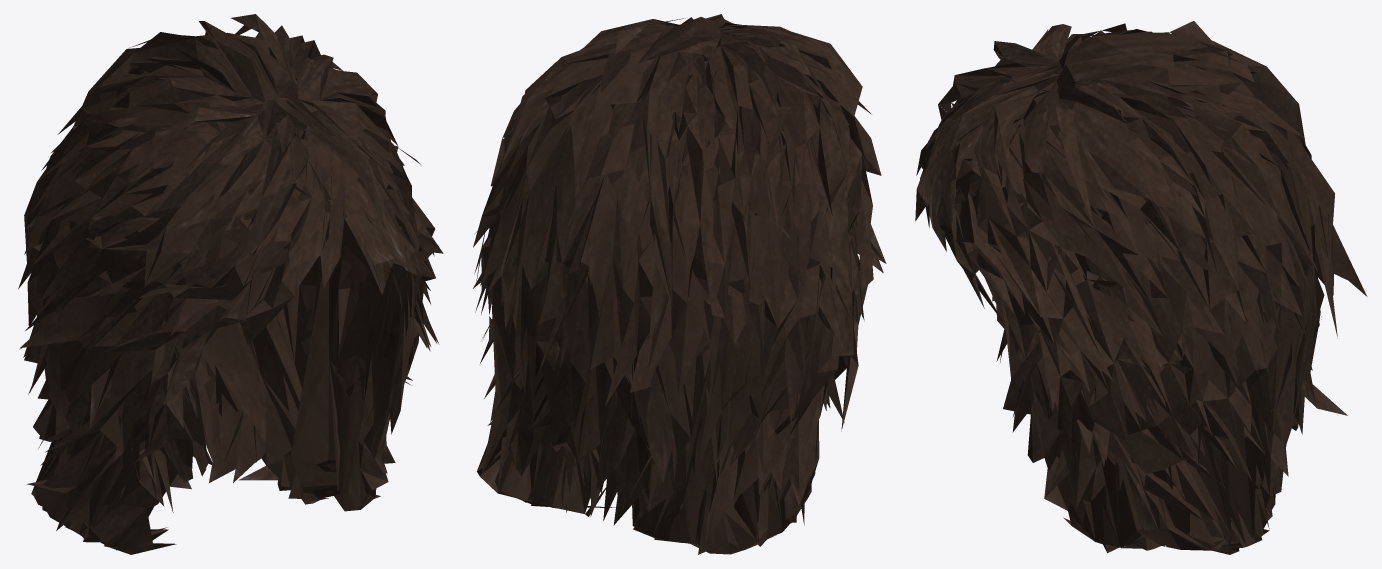
File: Hair_MediumShag.glb
3 renders of one model, left to right at view 1: azimuth 30°, elevation 25°; view 2: azimuth 150°, elevation 25°; view 3: azimuth 270°, elevation 25°, orthographic. The views are drawn at different scales.
Parts seen in each view (by area): view 1: HairMesh; view 2: HairMesh; view 3: HairMesh.
Boxes of the visible parts, box(x1,y1,x2,y2) form: HairMesh: box(18, 14, 443, 554); HairMesh: box(473, 14, 886, 554); HairMesh: box(915, 21, 1367, 554).
Size of the model in its own units: 0.2341 by 0.2726 by 0.2433.
Materials: 1 (1 with a texture image).
